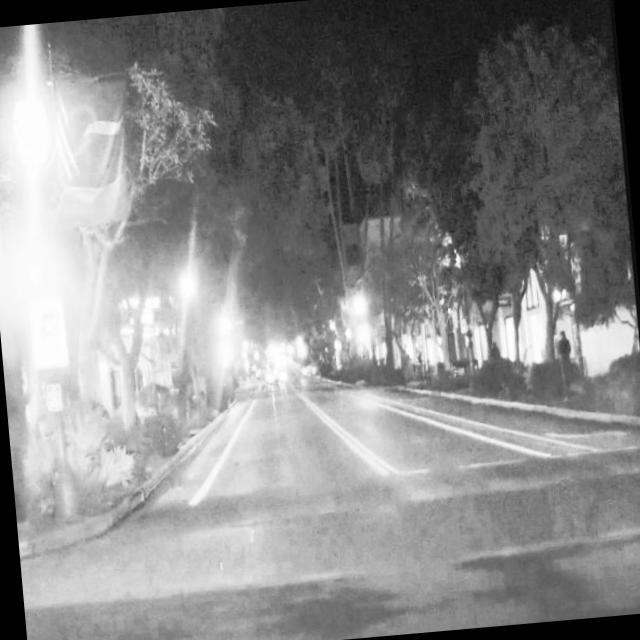Light: (23, 248, 45, 298)
Sign: (28, 295, 67, 370)
Tree: (0, 27, 39, 547)
